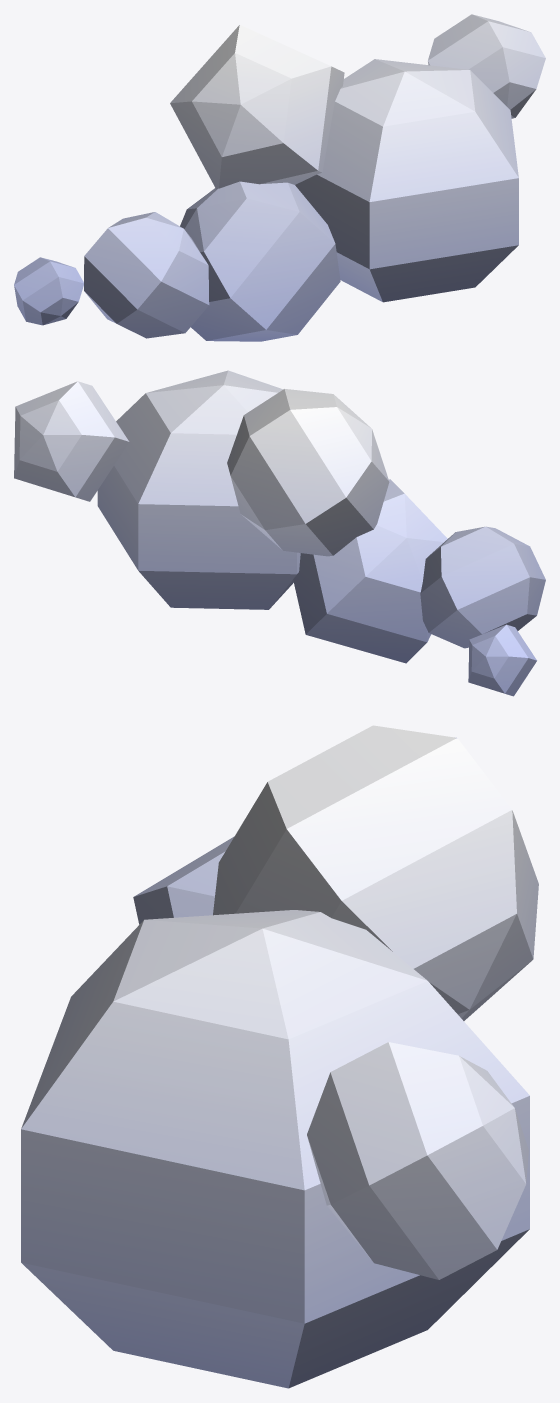
Rendered from Cloud_02.fbx.
3 views of the same model, one above another, from view 1: azimuth 30°, elevation 25°; view 2: azimuth 150°, elevation 25°; view 3: azimuth 270°, elevation 25° (orthographic). The views are drawn at different scales.
Parts seen in each view (by area): view 1: Cloud_02_Mesh; view 2: Cloud_02_Mesh; view 3: Cloud_02_Mesh.
Boxes of the visible parts, x1,y1,x2,y2 form: Cloud_02_Mesh: [14, 14, 545, 341]; Cloud_02_Mesh: [14, 370, 545, 696]; Cloud_02_Mesh: [21, 725, 538, 1388].
Bounding box in the file's own units: 1326 × 666 × 579.
